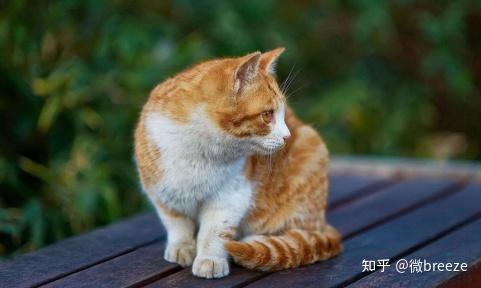橘猫: (135, 49, 340, 278)
